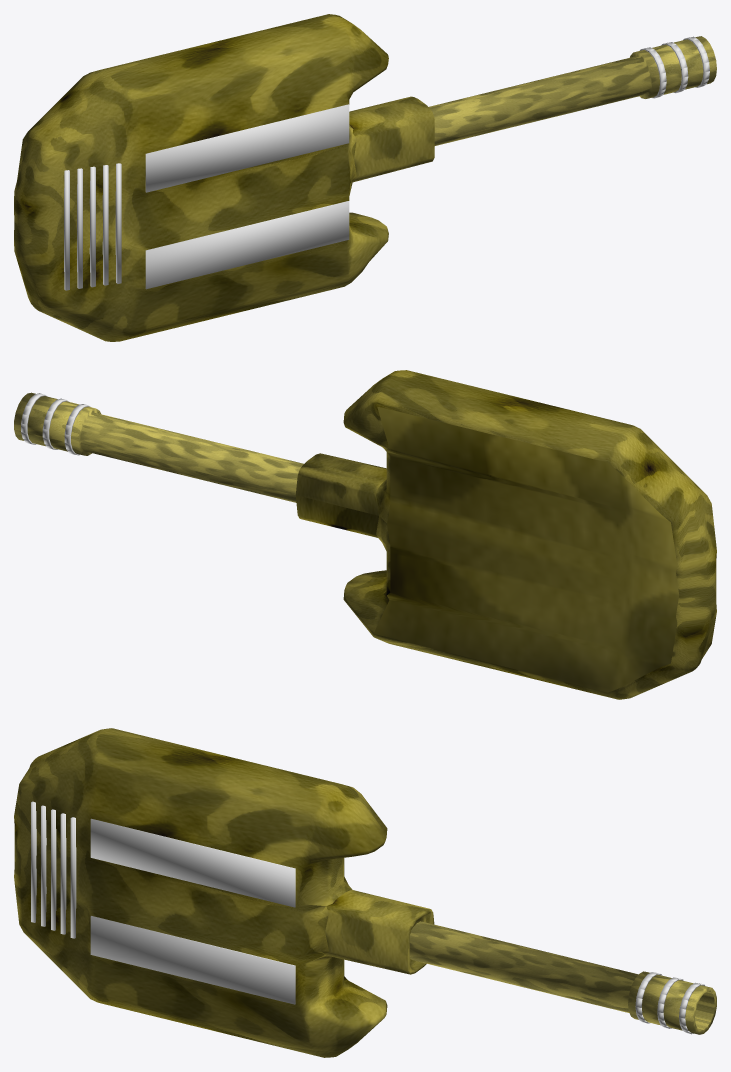
File: Heavy Cannon_dead.fbx
The picture shows the model from 3 angles, top to bottom: view 1: azimuth 30°, elevation 25°; view 2: azimuth 150°, elevation 25°; view 3: azimuth 330°, elevation 25°; orthographic projection.
Visible parts, largest first — view 1: Body0, Color0, Body1, Color1; view 2: Body0, Body1, Color1; view 3: Body0, Color0, Body1, Color1.
Part boxes in pixels (x1,y1,x2,y2): Body0: (14, 14, 434, 341); Color0: (64, 104, 349, 290); Body1: (429, 36, 716, 145); Color1: (639, 36, 709, 98); Body0: (295, 370, 716, 699); Body1: (14, 392, 303, 502); Color1: (21, 393, 90, 455); Body0: (14, 728, 434, 1057); Color0: (31, 801, 295, 1004); Body1: (409, 921, 716, 1034); Color1: (635, 972, 705, 1034).
Size of the model in its own units: 91.27 by 33.66 by 10.49.
Materials: 2 (2 with a texture image).
